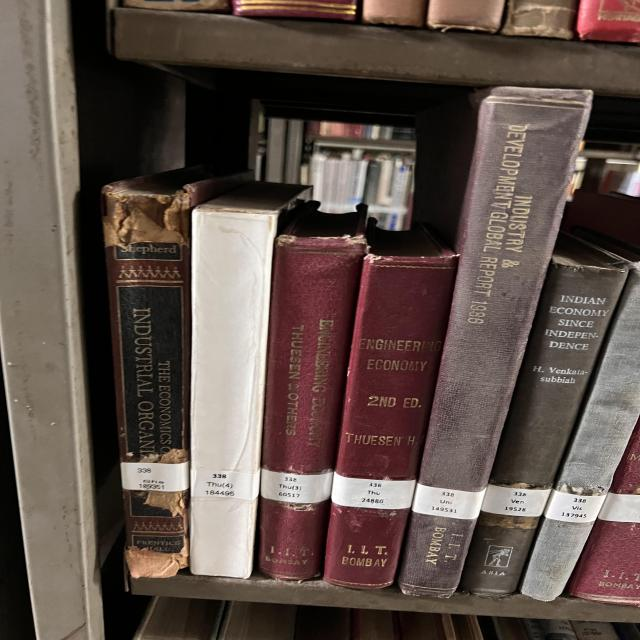Book: (398, 86, 592, 596), (460, 232, 630, 596), (102, 166, 242, 578), (323, 225, 458, 589), (190, 182, 308, 579), (258, 202, 367, 580), (522, 271, 640, 601)
Label: (332, 472, 417, 509), (412, 484, 485, 520), (260, 469, 333, 504), (482, 484, 552, 516), (190, 470, 260, 501), (120, 462, 190, 491), (545, 490, 607, 522), (598, 492, 640, 522)
